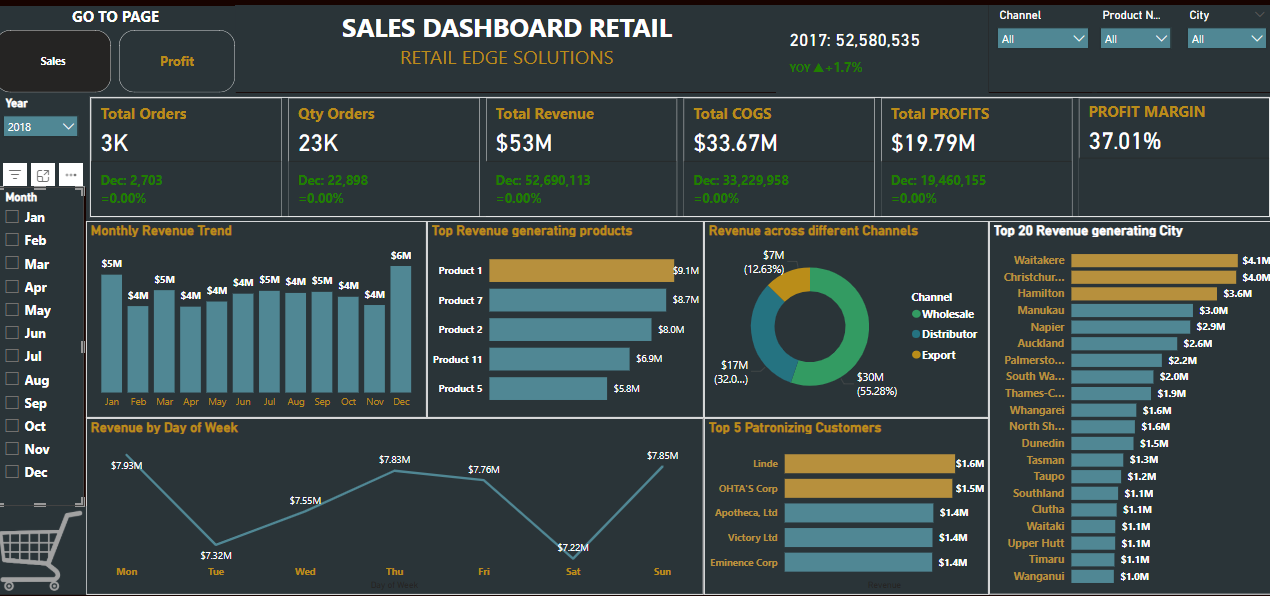

This screenshot's page, from the dashboard's own definition file:
{"tool":"powerbi","page":{"name":"Sales","canvas":[1600,890],"ordinal":0},"visuals":[{"type":"cardVisual","fields":{"Data":["Calculations.Total Order","Calculations.Qty Order","Calculations.Revenue","Calculations.COGSS","Calculations.PROFITS","Calculations.PROFIT MARGINS"]},"box":[113.8,211.2,1486.2,160],"z":0},{"type":"clusteredColumnChart","title":"Monthly Revenue Trend","fields":{"Category":["Calender Dim.Month"],"Y":["Calculations.Revenue"]},"box":[113.8,371.6,426.2,245.7],"z":1000},{"type":"clusteredBarChart","title":"Top Revenue generating products ","fields":{"Category":["Product Dim.Product Name"],"Y":["Calculations.Revenue"]},"box":[539.9,371.6,345.8,245.7],"z":2000},{"type":"donutChart","title":"Revenue across different Channels","fields":{"Y":["Calculations.Revenue"],"Category":["Fact Table.Channel"]},"box":[885.8,371.6,356.4,245.7],"z":3000},{"type":"clusteredBarChart","title":"Top 20 Revenue generating City","fields":{"Category":["Regional Dim.City"],"Y":["Calculations.Revenue"]},"box":[1242.2,371.6,357.9,467.1],"z":4000},{"type":"lineChart","fields":{"Category":["Calender Dim.Day of Week"],"Y":["Calculations.Revenue"]},"box":[113.8,617.3,772,221.4],"z":5000},{"type":"clusteredBarChart","title":"Top 5 Patronizing Customers","fields":{"Category":["Customer Dim.Customer Names"],"Y":["Calculations.Revenue"]},"box":[885.8,617.3,356.4,221.4],"z":6000},{"type":"slicer","fields":{"Values":["Regional Dim.City"]},"box":[1480.3,101.6,119.8,109.2],"z":7000},{"type":"slicer","fields":{"Values":["Product Dim.Product Name"]},"box":[1371.1,101.6,109.2,109.2],"z":8000},{"type":"slicer","fields":{"Values":["Fact Table.Channel"]},"box":[1242.2,101.6,135,109.2],"z":9000},{"type":"slicer","fields":{"Values":["Calender Dim.Month"]},"box":[0,329.1,110.7,398.9],"z":10000},{"type":"slicer","fields":{"Values":["Calender Dim.Year"]},"box":[0,210.8,114.3,117.6],"z":11000},{"type":"textbox","box":[300.3,101.6,679.5,109.2],"z":12000},{"type":"pageNavigator","title":"GO TO PAGE","box":[0,102.5,301.2,108.8],"z":13000},{"type":"image","box":[0,727.5,113.8,111.2],"z":14000},{"type":"cardVisual","fields":{"Data":["Calculated Measures.Ref_PreviousYear_ Revenue"]},"box":[976.2,101.2,266.2,110],"z":15000}]}

Visuals, with their boxes on the page's 1600x890 design canvas (x1, y1, x2, y2). These are canvas units, not pixel positions in the 1270x596 screenshot, which may show the page scaled, cropped or inside an application window:
cardVisual - Calculations.Total Order x Calculations.Qty Order: x1=114 y1=211 x2=1600 y2=371
"Monthly Revenue Trend" clusteredColumnChart: x1=114 y1=372 x2=540 y2=617
"Top Revenue generating products " clusteredBarChart: x1=540 y1=372 x2=886 y2=617
"Revenue across different Channels" donutChart: x1=886 y1=372 x2=1242 y2=617
"Top 20 Revenue generating City" clusteredBarChart: x1=1242 y1=372 x2=1600 y2=839
lineChart - Calender Dim.Day of Week x Calculations.Revenue: x1=114 y1=617 x2=886 y2=839
"Top 5 Patronizing Customers" clusteredBarChart: x1=886 y1=617 x2=1242 y2=839
slicer - Regional Dim.City: x1=1480 y1=102 x2=1600 y2=211
slicer - Product Dim.Product Name: x1=1371 y1=102 x2=1480 y2=211
slicer - Fact Table.Channel: x1=1242 y1=102 x2=1377 y2=211
slicer - Calender Dim.Month: x1=0 y1=329 x2=111 y2=728
slicer - Calender Dim.Year: x1=0 y1=211 x2=114 y2=328
textbox: x1=300 y1=102 x2=980 y2=211
"GO TO PAGE" pageNavigator: x1=0 y1=102 x2=301 y2=211
image: x1=0 y1=728 x2=114 y2=839
cardVisual - Calculated Measures.Ref_PreviousYear_ Revenue: x1=976 y1=101 x2=1242 y2=211
